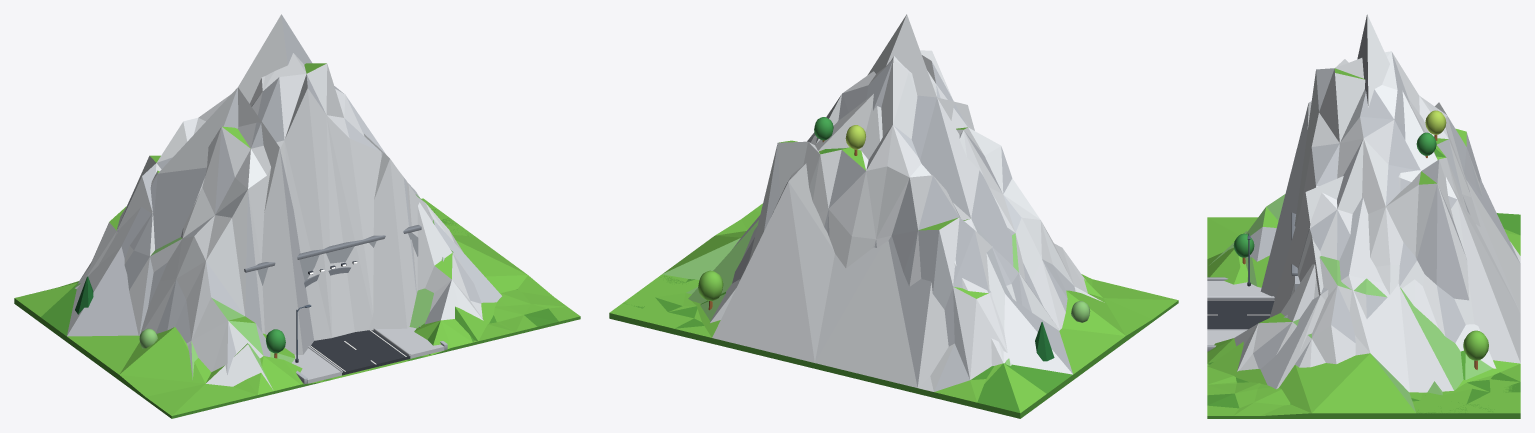
File: montanha_tunel.glb
The picture shows the model from 3 angles, left to right: view 1: azimuth 30°, elevation 25°; view 2: azimuth 150°, elevation 25°; view 3: azimuth 270°, elevation 25°; orthographic projection.
Parts seen in each view (by area): view 1: montanha_tunel, colisao_montanha; view 2: colisao_montanha, montanha_tunel; view 3: montanha_tunel, colisao_montanha.
Part boxes in pixels (x1,y1,x2,y2): montanha_tunel: (14, 53, 580, 418); colisao_montanha: (14, 14, 580, 418); colisao_montanha: (609, 14, 1178, 418); montanha_tunel: (609, 50, 1178, 417); montanha_tunel: (1207, 51, 1520, 418); colisao_montanha: (1207, 14, 1520, 418).
Bounding box in the file's own units: 45 × 31.54 × 30.
2 materials, 1 textured.
